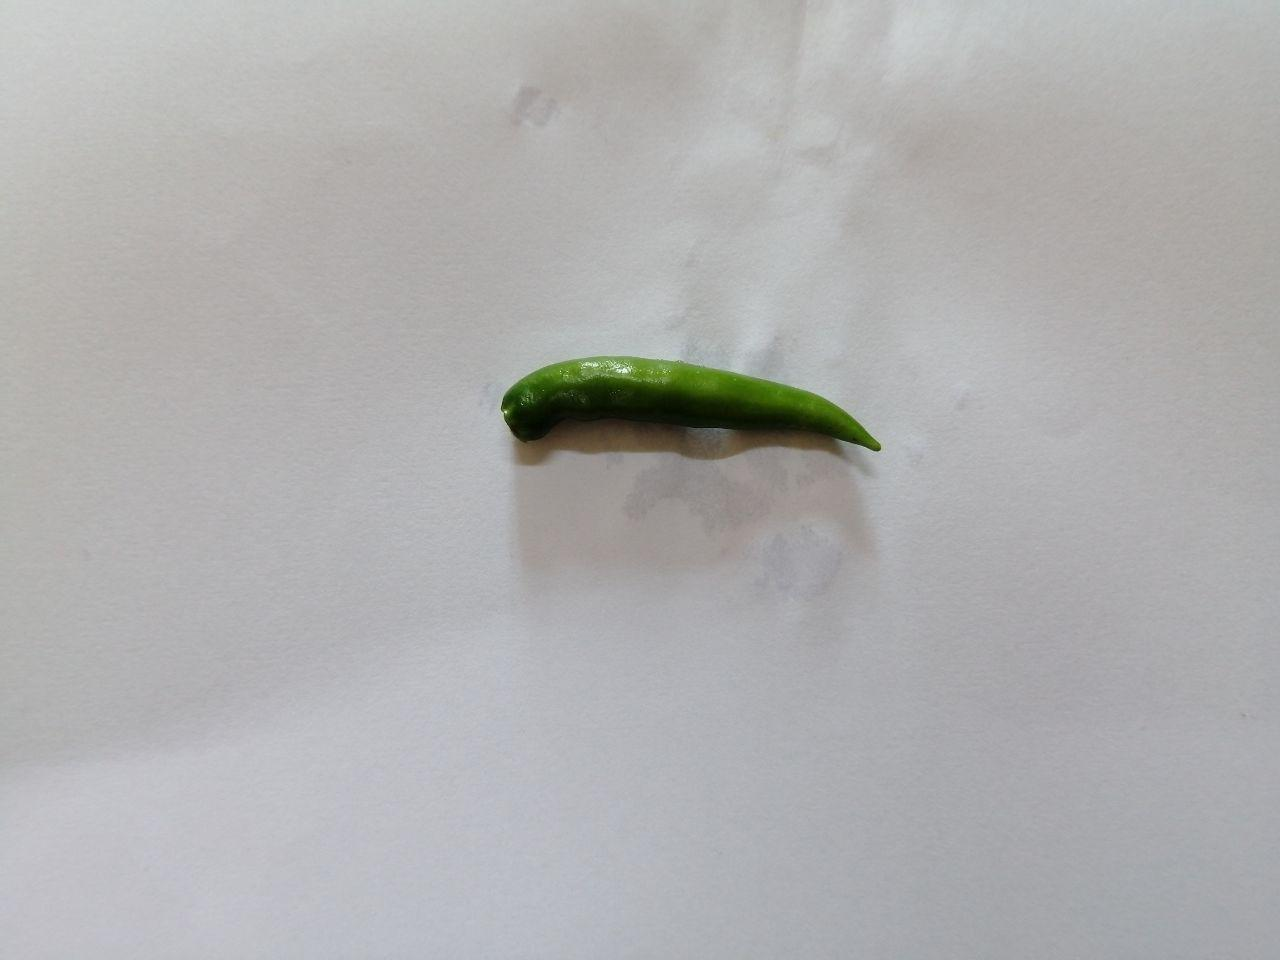lada hijau: (480, 334, 900, 483)
